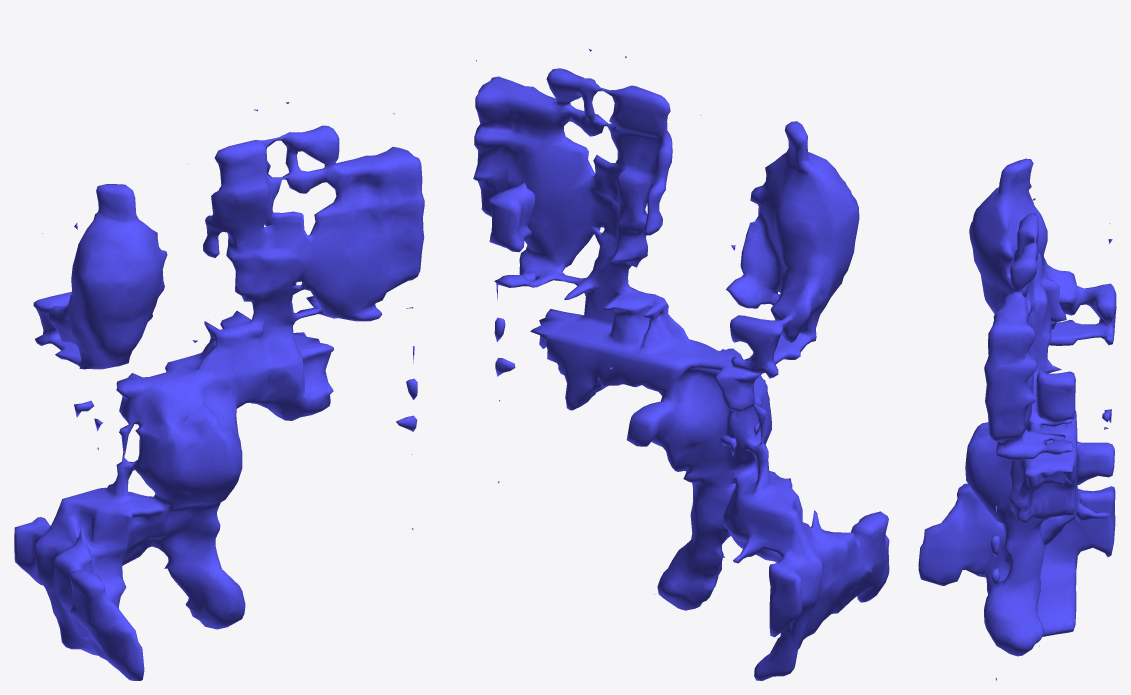
Rendered from glasspaint1.glb.
3 renders of one model, left to right at view 1: azimuth 30°, elevation 25°; view 2: azimuth 150°, elevation 25°; view 3: azimuth 270°, elevation 25°, orthographic. The views are drawn at different scales.
Visible parts, largest first — view 1: lagrange_node 2; view 2: lagrange_node 2; view 3: lagrange_node 2.
Part boxes in pixels (x1=…): lagrange_node 2: x1=14, y1=102, x2=424, y2=680; lagrange_node 2: x1=473, y1=49, x2=889, y2=680; lagrange_node 2: x1=918, y1=158, x2=1116, y2=680.
Bounding box in the file's own units: 0.6311 × 1.09 × 0.3225.
1 material, 1 textured.
